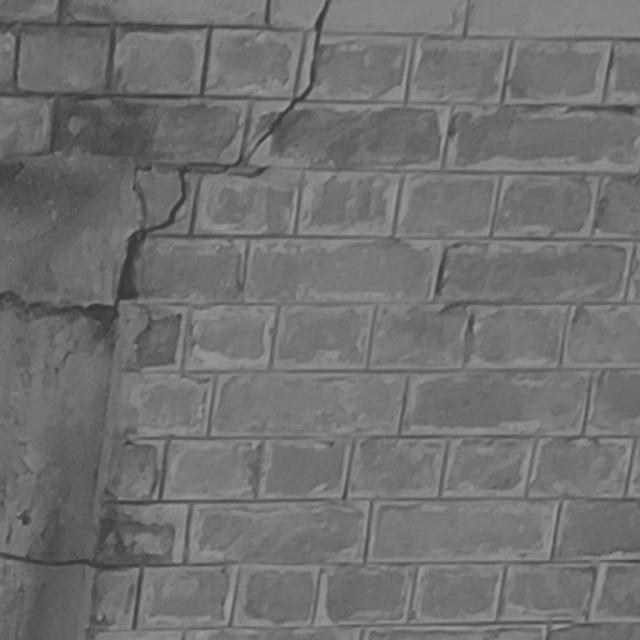crack: (116, 1, 330, 306)
